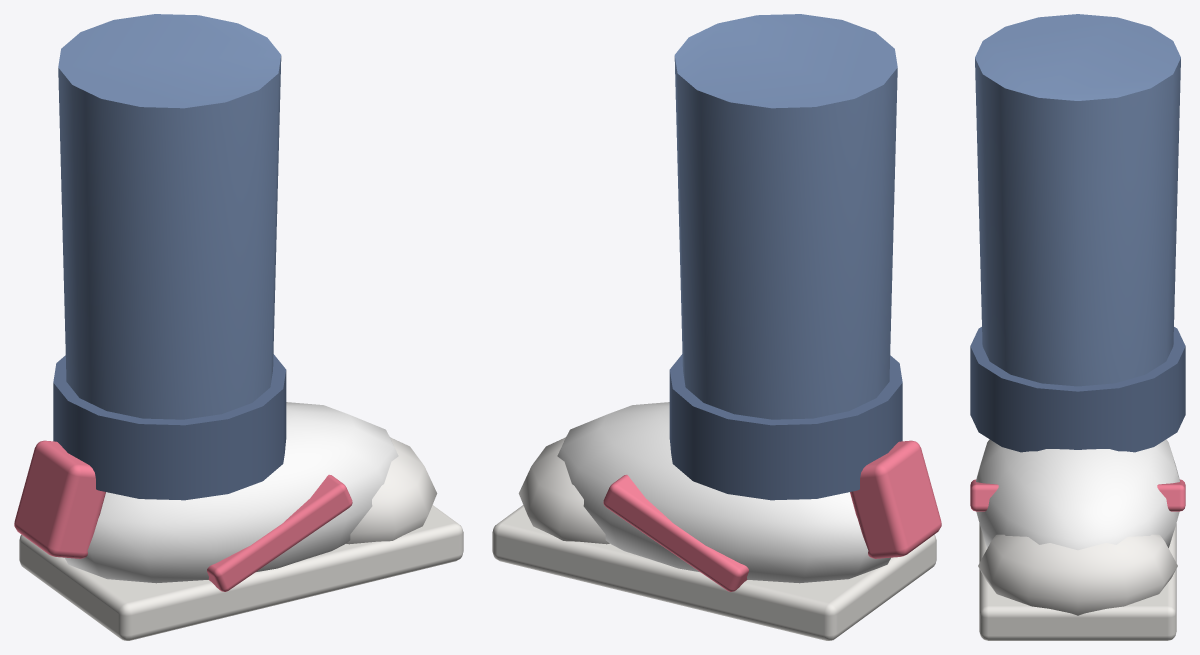
The model's file is sam_shin.glb.
The picture shows the model from 3 angles, left to right: view 1: azimuth 30°, elevation 25°; view 2: azimuth 150°, elevation 25°; view 3: azimuth 270°, elevation 25°; orthographic projection. The views are drawn at different scales.
Parts seen in each view (by area): view 1: sam_shin; view 2: sam_shin; view 3: sam_shin.
Boxes of the visible parts, left/top/right/bottom form: sam_shin: left=14, top=14, right=463, bottom=640; sam_shin: left=492, top=14, right=941, bottom=640; sam_shin: left=970, top=14, right=1185, bottom=640.
Size of the model in its own units: 0.2715 by 0.35 by 0.142.
